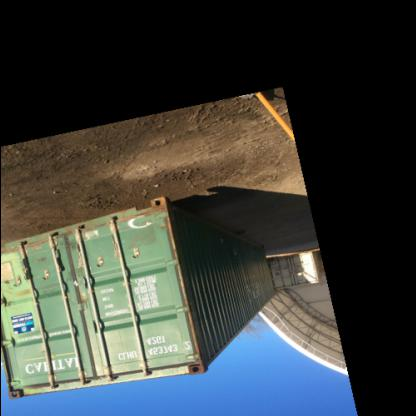Damage: (16, 0, 95, 164), (193, 176, 250, 314), (104, 154, 152, 209), (141, 260, 173, 326), (201, 8, 227, 57), (98, 50, 126, 93), (242, 140, 260, 162)
